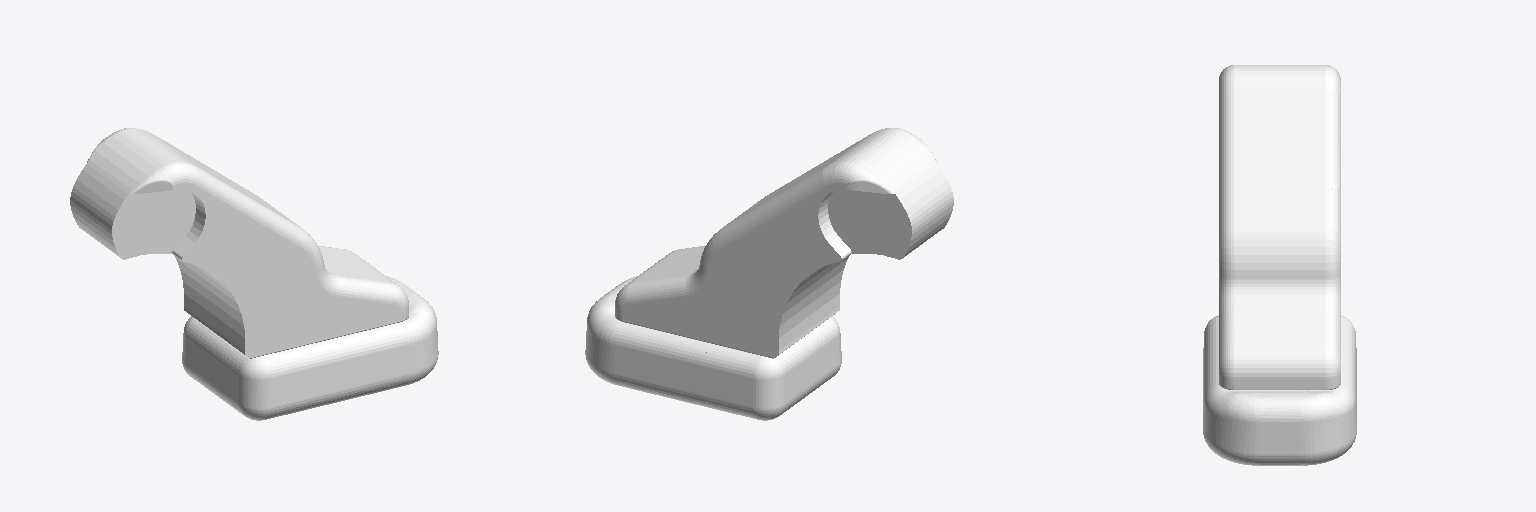
Rendered from finger_tip_H_UV_100430.obj.
The picture shows the model from 3 angles: view 1: azimuth 30°, elevation 25°; view 2: azimuth 150°, elevation 25°; view 3: azimuth 270°, elevation 25°; orthographic projection.
Size of the model in its own units: 0.0568 by 0.0448 by 0.023.